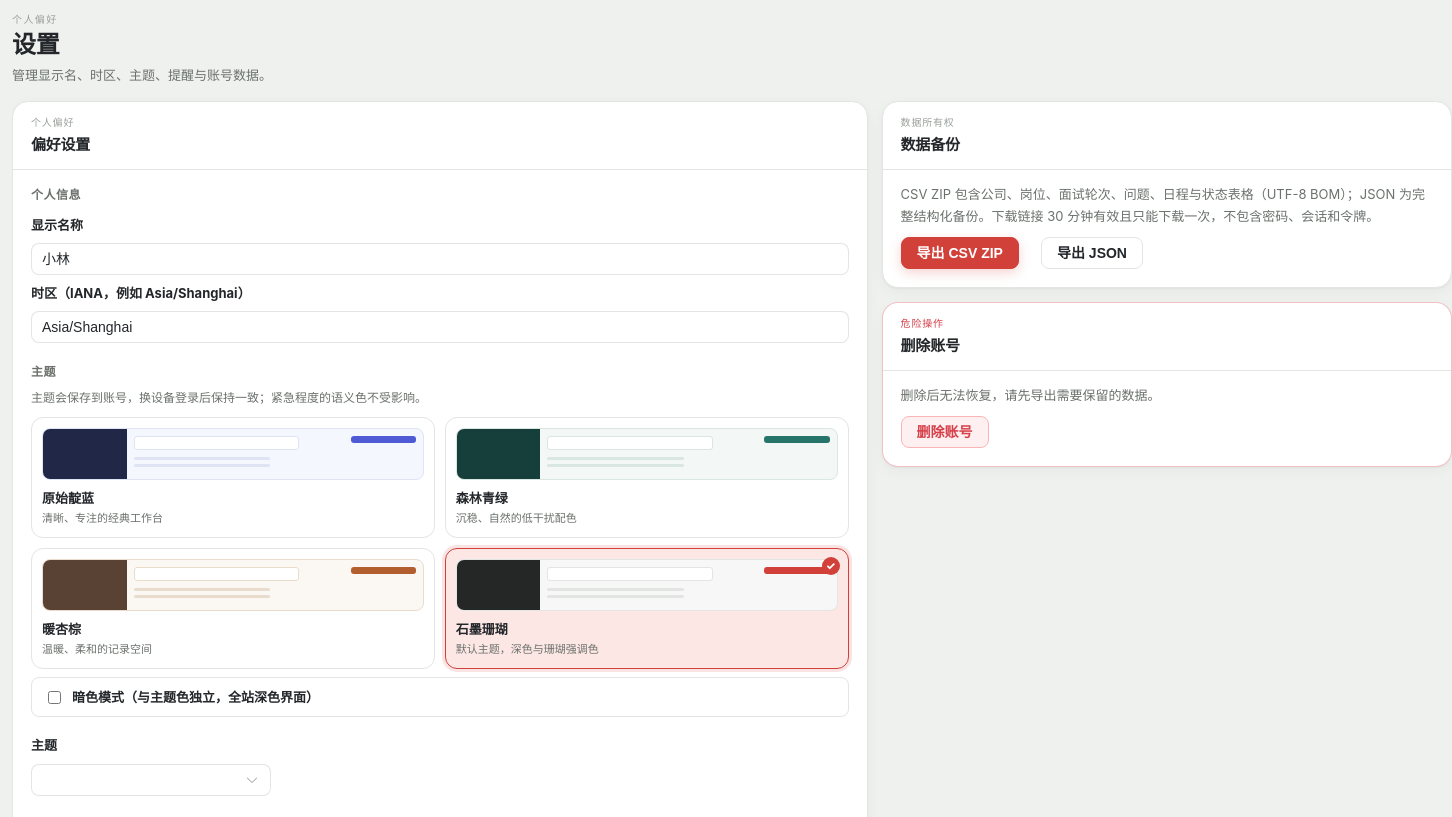
it: SettingsView › generates a one-time CSV ZIP export and downloads it via the token flow
This screenshot has width=1452, height=817.
Click the button "导出 CSV ZIP": (960, 253) [901, 237, 1019, 269]
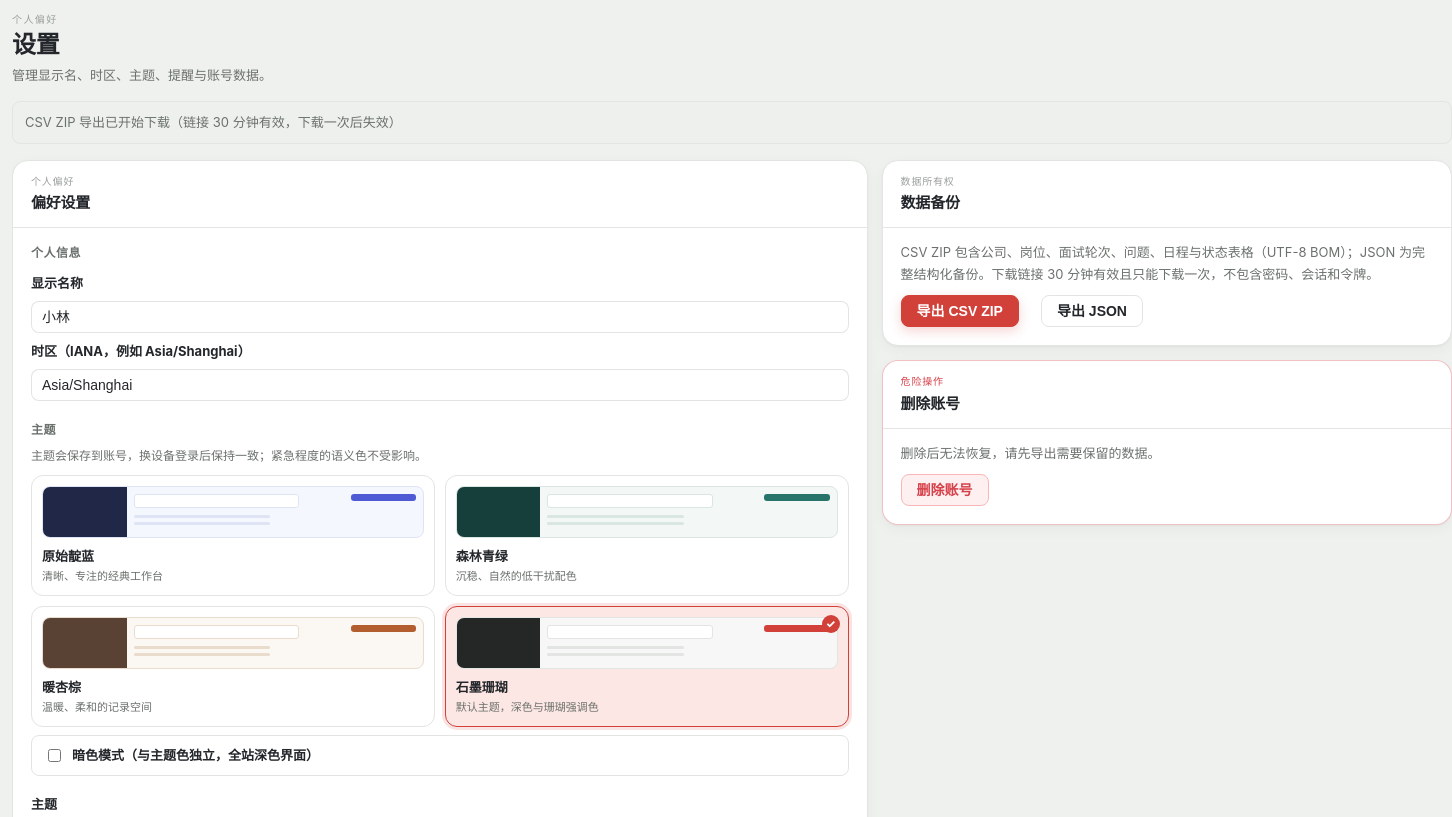
Expected: the text "CSV ZIP 导出已开始下载" is shown, [25, 114, 402, 130]
